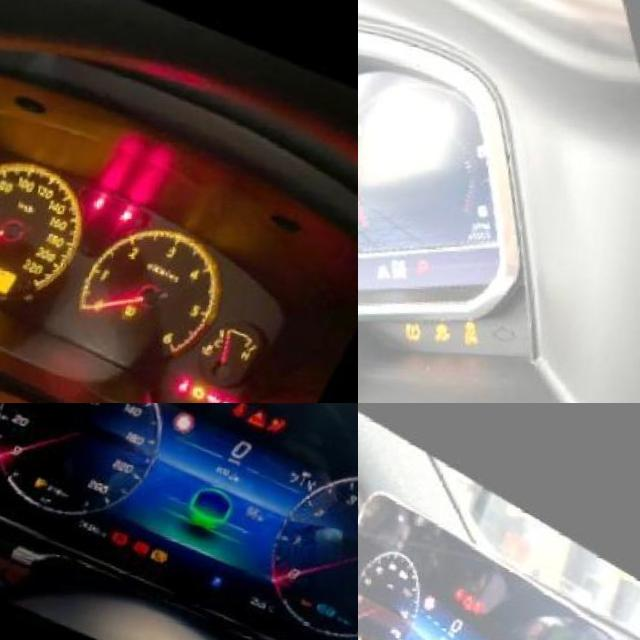High Engine Coolant Temperature: (217, 333, 237, 349)
Low fuel level: (37, 475, 52, 489), (358, 631, 362, 640)
Seat Belt: (199, 371, 214, 385)
